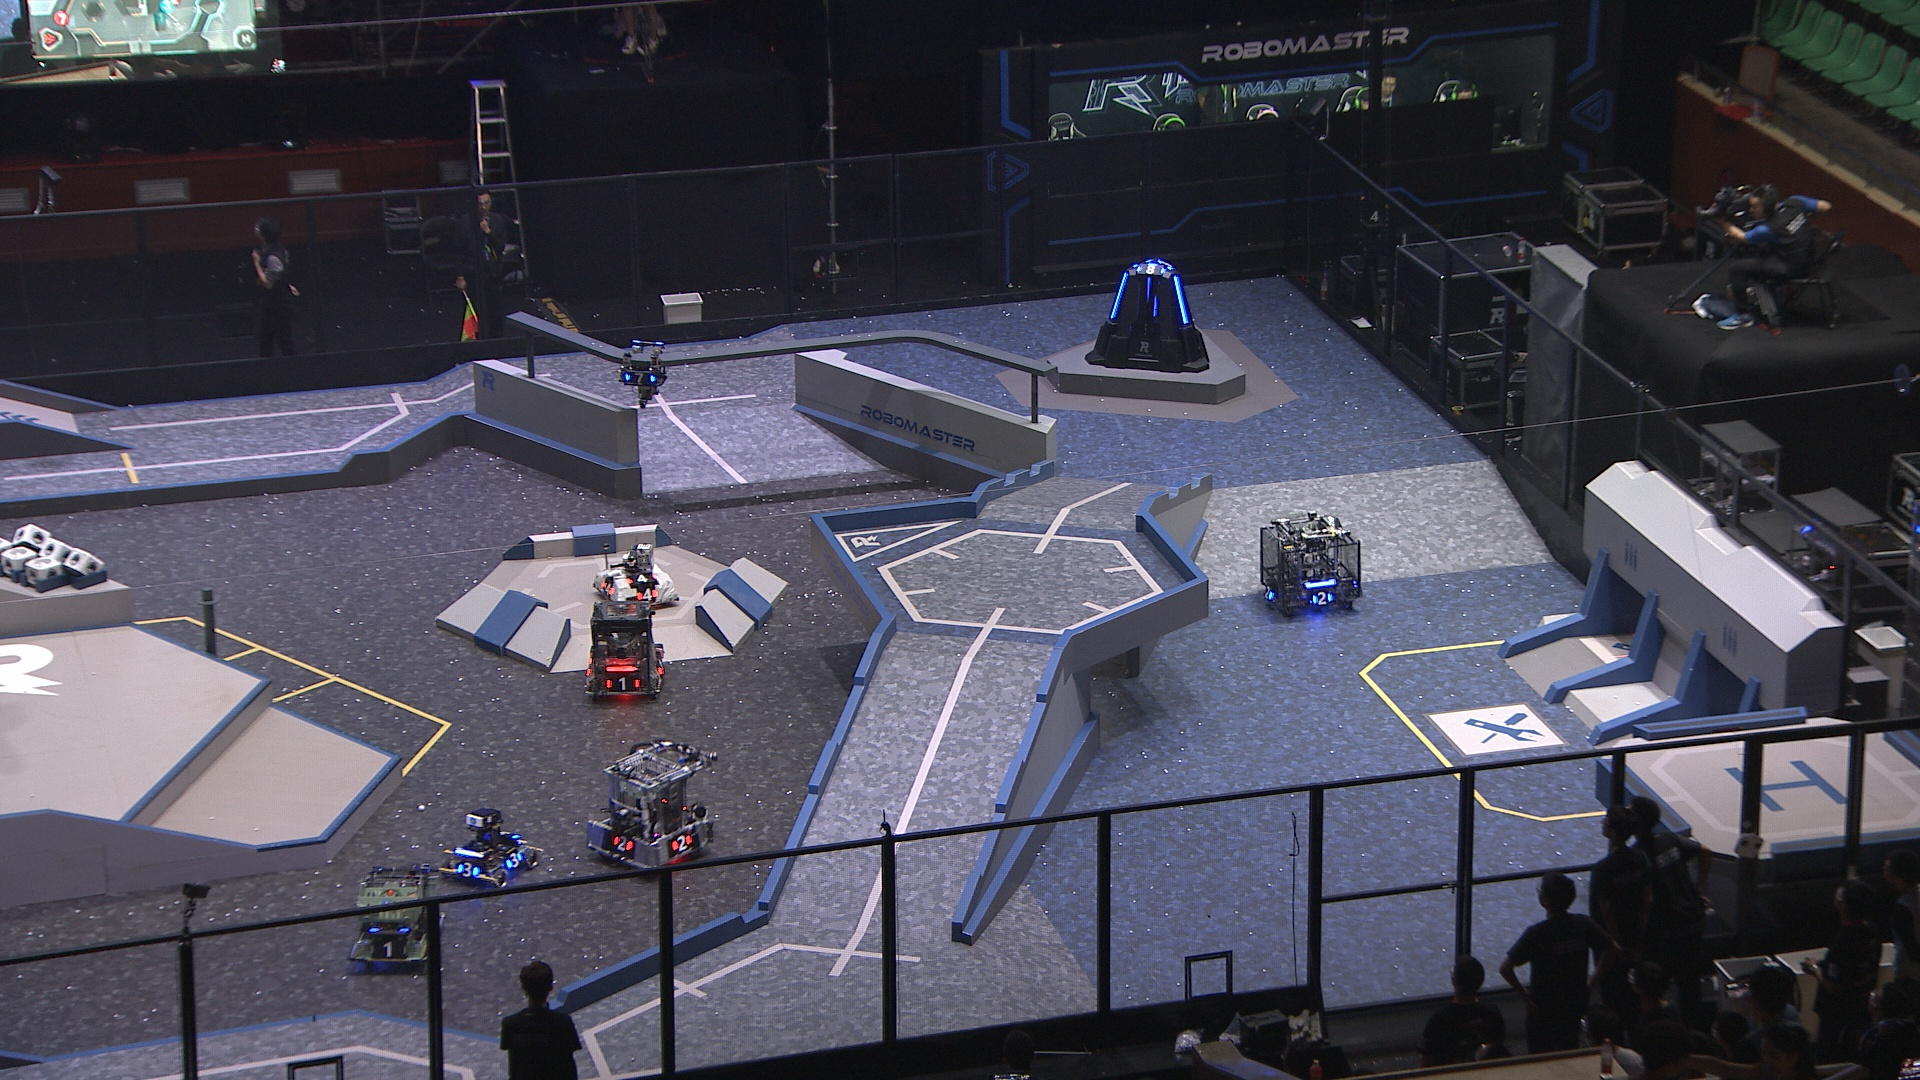armor: (1109, 272, 1130, 320), (1174, 276, 1191, 327), (368, 942, 410, 960), (607, 675, 641, 694), (611, 833, 637, 855), (670, 832, 694, 855), (624, 371, 655, 386), (1309, 589, 1335, 609), (1135, 262, 1168, 277), (456, 861, 481, 880), (626, 572, 659, 585), (504, 853, 526, 872), (636, 585, 659, 603), (1150, 295, 1162, 322), (655, 657, 667, 678), (1145, 276, 1153, 305), (1263, 585, 1276, 603), (603, 580, 615, 599)
base: (1084, 261, 1215, 376)
car: (584, 741, 719, 874), (1259, 510, 1364, 616), (347, 865, 448, 971), (585, 597, 667, 702), (436, 808, 543, 887), (589, 542, 684, 612)
watcher: (618, 339, 670, 410)
